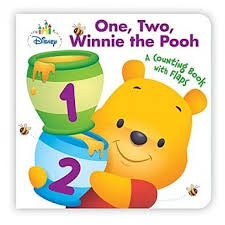Winnie: (88, 59, 209, 195)
